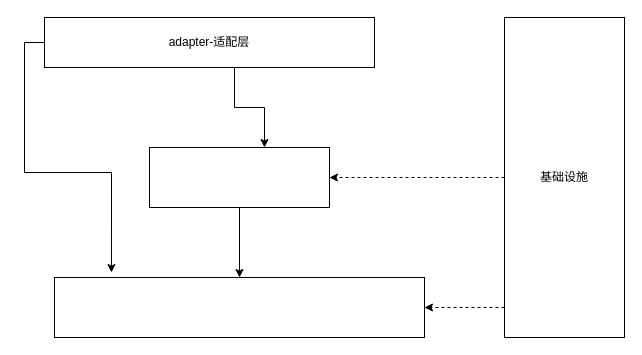
The diagram is 642 pixels wide and 355 high, and some of its shapes have lost their labels. Each missing label, with the centre of its shape:
app-应用层: the point at 239,177
domain-领域层: the point at 239,307
